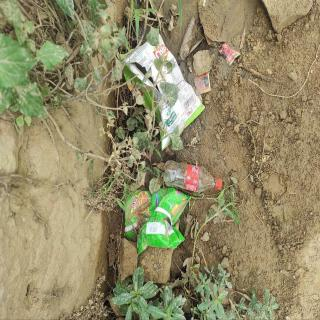Plastic-bottle: (162, 158, 226, 197)
